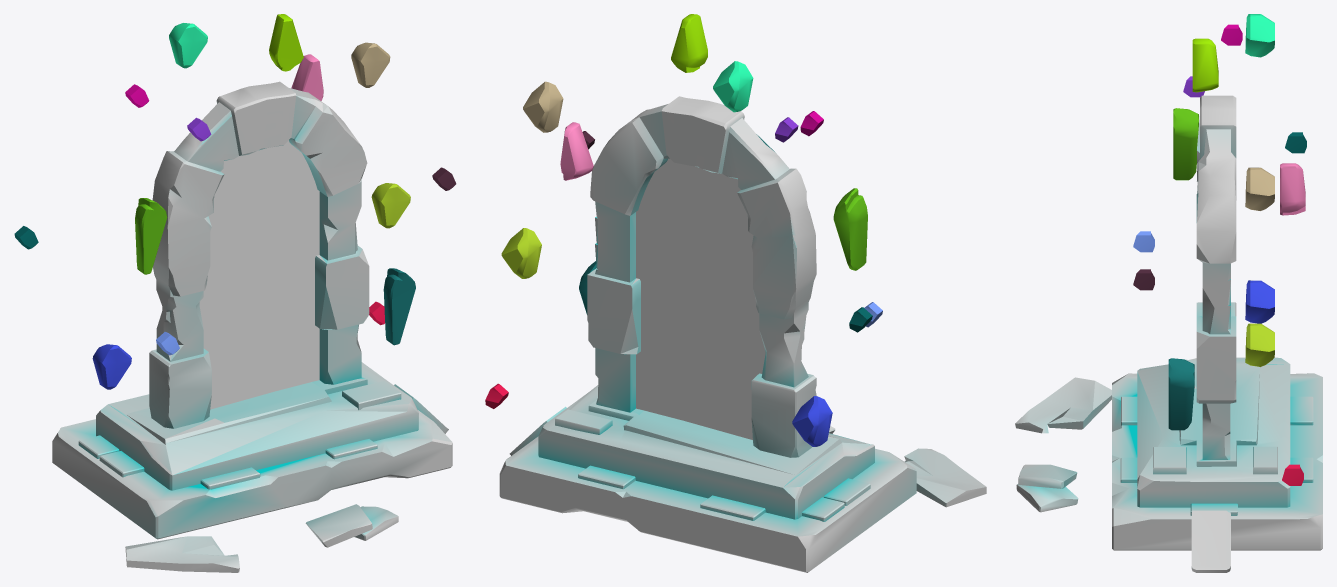
File: Portal_Mesh.fbx
3 views of the same model, side by side, from view 1: azimuth 30°, elevation 25°; view 2: azimuth 150°, elevation 25°; view 3: azimuth 270°, elevation 25° (orthographic). The views are drawn at different scales.
Parts seen in each view (by area): view 1: PortalMesh, PortalFX, PortalMesh_Livitation; view 2: PortalMesh, PortalFX, PortalMesh_Livitation; view 3: PortalMesh, PortalMesh_Livitation.
Part boxes in pixels (x1,y1,x2,y2): PortalMesh: (52,81,452,572); PortalFX: (199,140,319,409); PortalMesh_Livitation: (14,14,456,389); PortalMesh: (499,96,986,572); PortalFX: (636,158,765,439); PortalMesh_Livitation: (485,14,882,446); PortalMesh: (1015,95,1322,572); PortalMesh_Livitation: (1133,14,1306,485).
Size of the model in its own units: 3.1 by 2.16 by 3.54.
